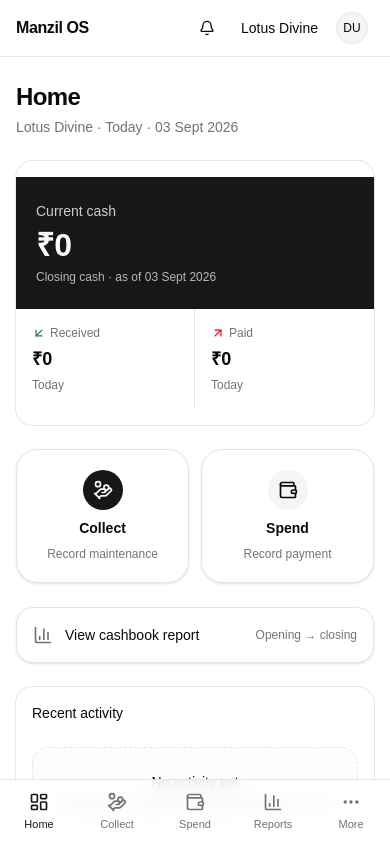
Test: AppShell — navigation role correctness and society scope (Slice 5) › More sheet exposes grouped operational and financial settings
Click the button "More": (351, 812) 312,780 -> 389,843
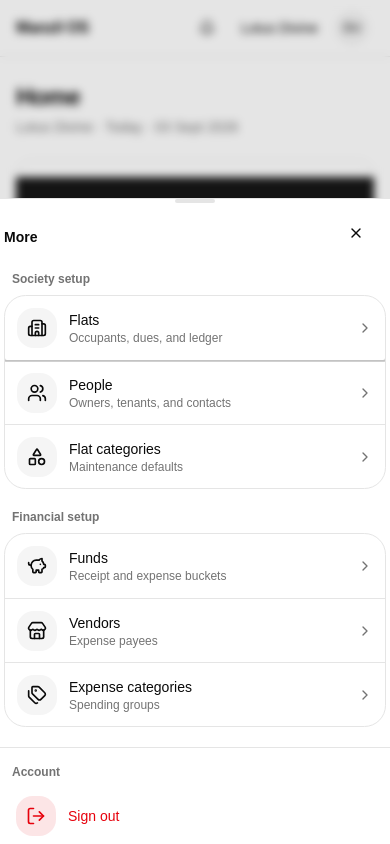
Check: the heading "Society setup" is shown, box 12,272 -> 90,286
Check: the link "Flats Occupants, dues, and ledger" is shown, box 5,296 -> 385,360
Check: the link "People Owners, tenants, and contacts" is shown, box 5,360 -> 385,424
